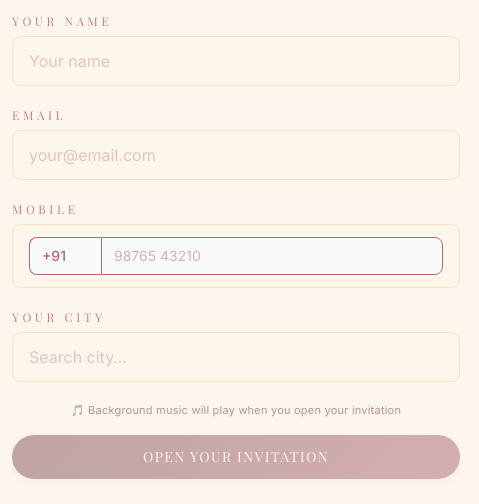
Scenario: FirstVisitForm › shows city dropdown suggestions when typing
The image size is (479, 504).
In the field with placeholder "Search city…": [236, 357] box [12,332,460,382], type "ch"
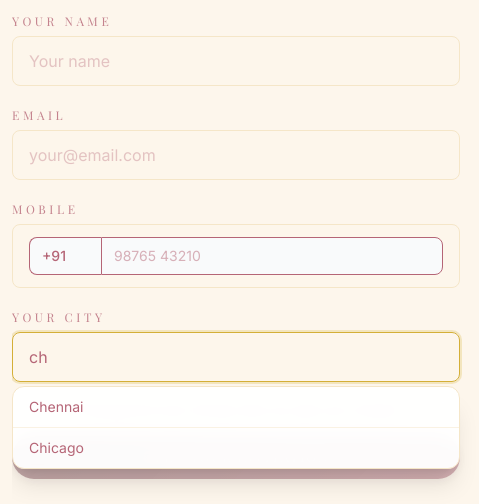
Now the button "Chennai" is shown, box [13,387,459,427]
